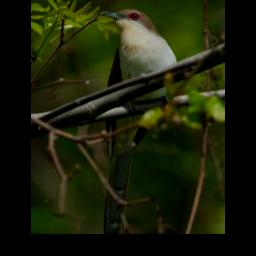Cuckoo: (97, 6, 180, 233)
